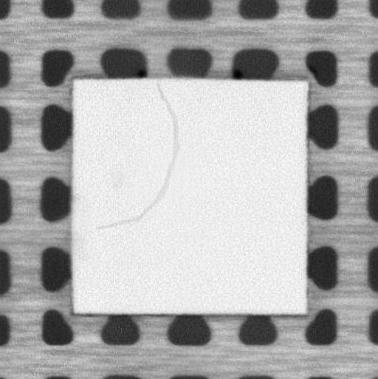DIE_CRACK: (96, 80, 180, 230)
